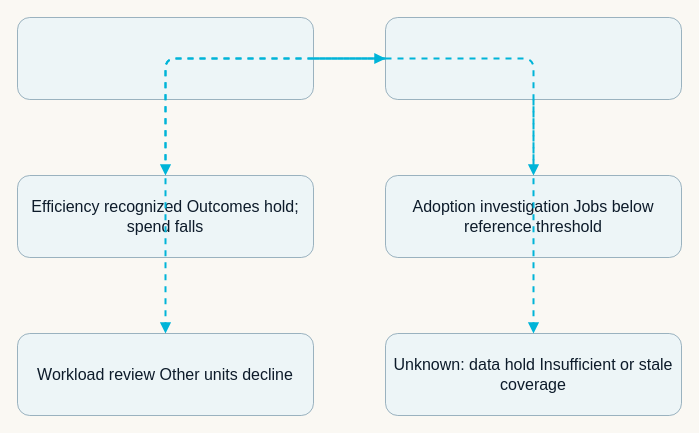
The diagram is 699 pixels wide and 433 high, and some of its shapes have lost their labels. The centre of each missing label's shape, as x and y in pixels:
"Compare outcomes Jobs, spend and units" goes at (533,58).
"Complete usage weeks Fixed reference + recent window" goes at (165,58).
